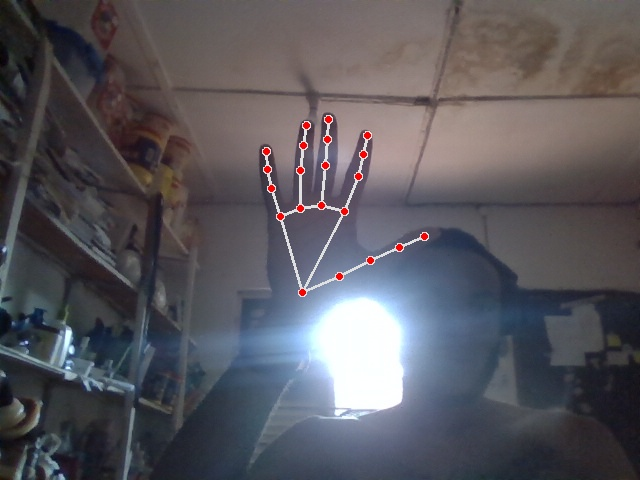no: (259, 113, 437, 319)
